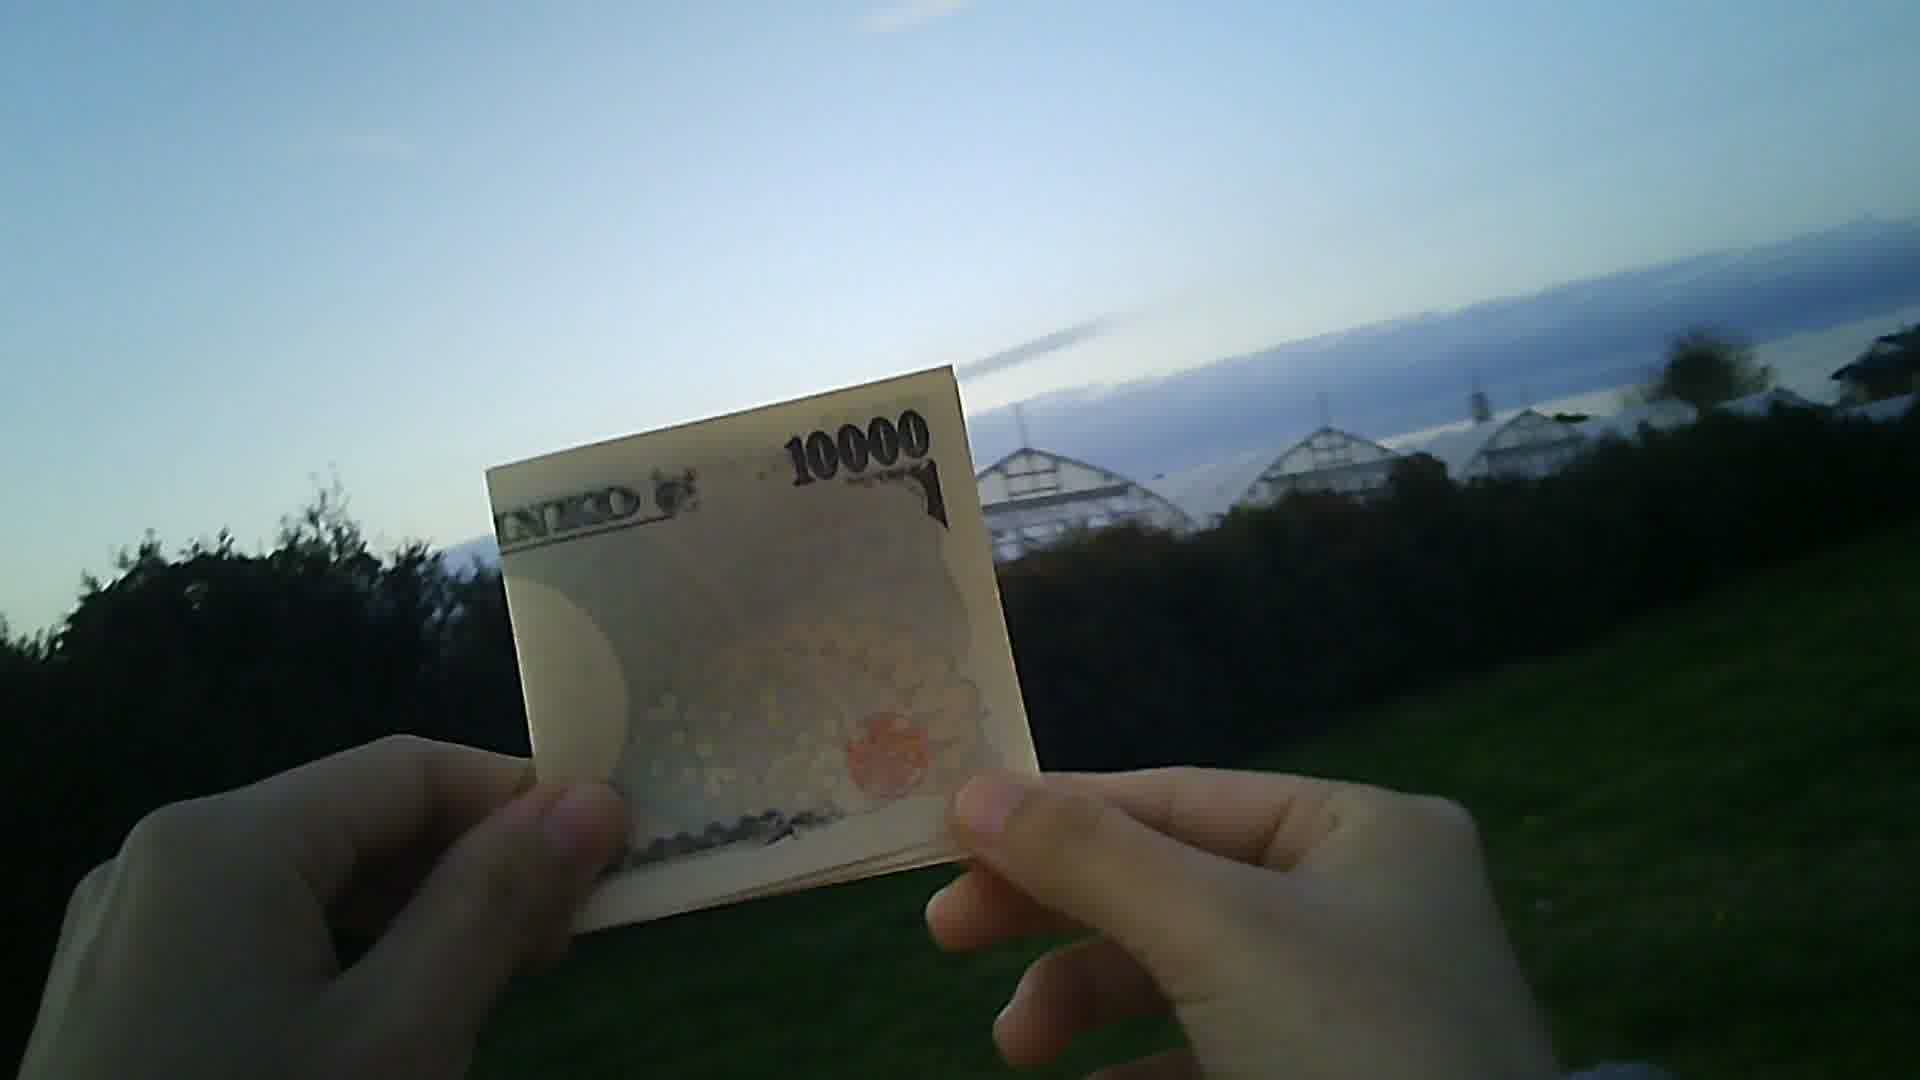10,000 Yen: (472, 367, 1069, 891)
